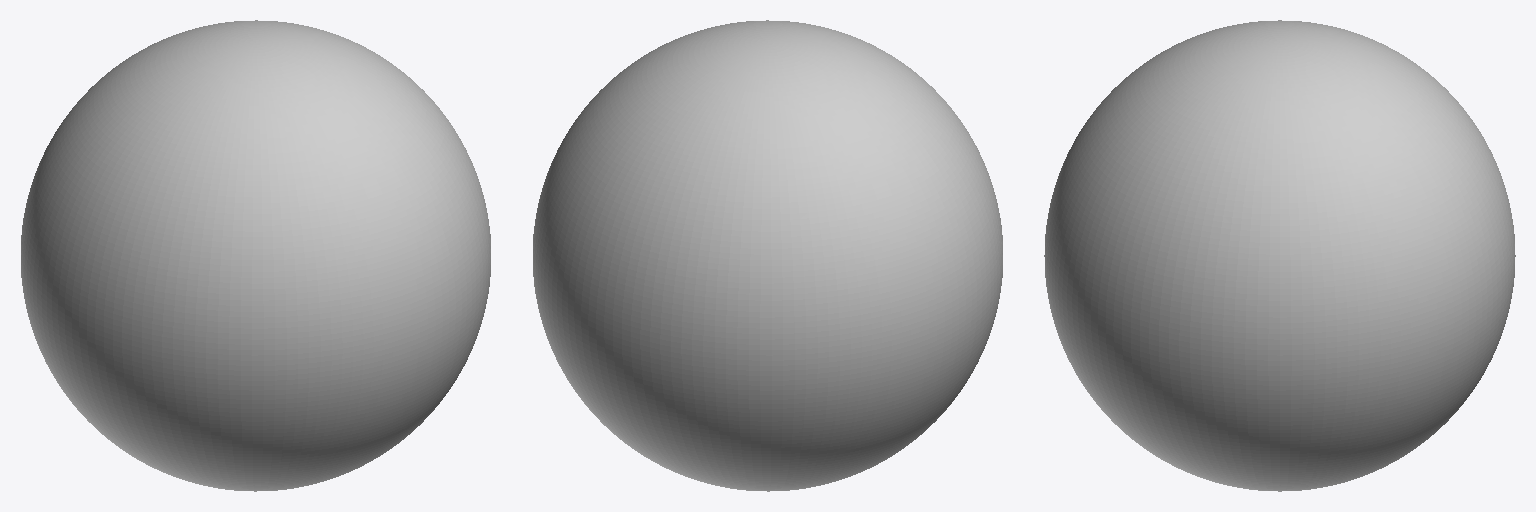
Rendered from hollow_sphere_128.obj.
The picture shows the model from 3 angles: view 1: azimuth 30°, elevation 25°; view 2: azimuth 150°, elevation 25°; view 3: azimuth 270°, elevation 25°; orthographic projection.
Bounding box in the file's own units: 2 × 2 × 2.